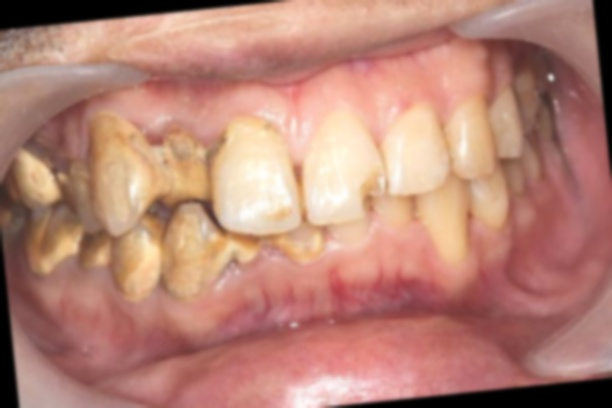Gingivitis: (212, 256, 433, 339), (147, 70, 236, 115)
